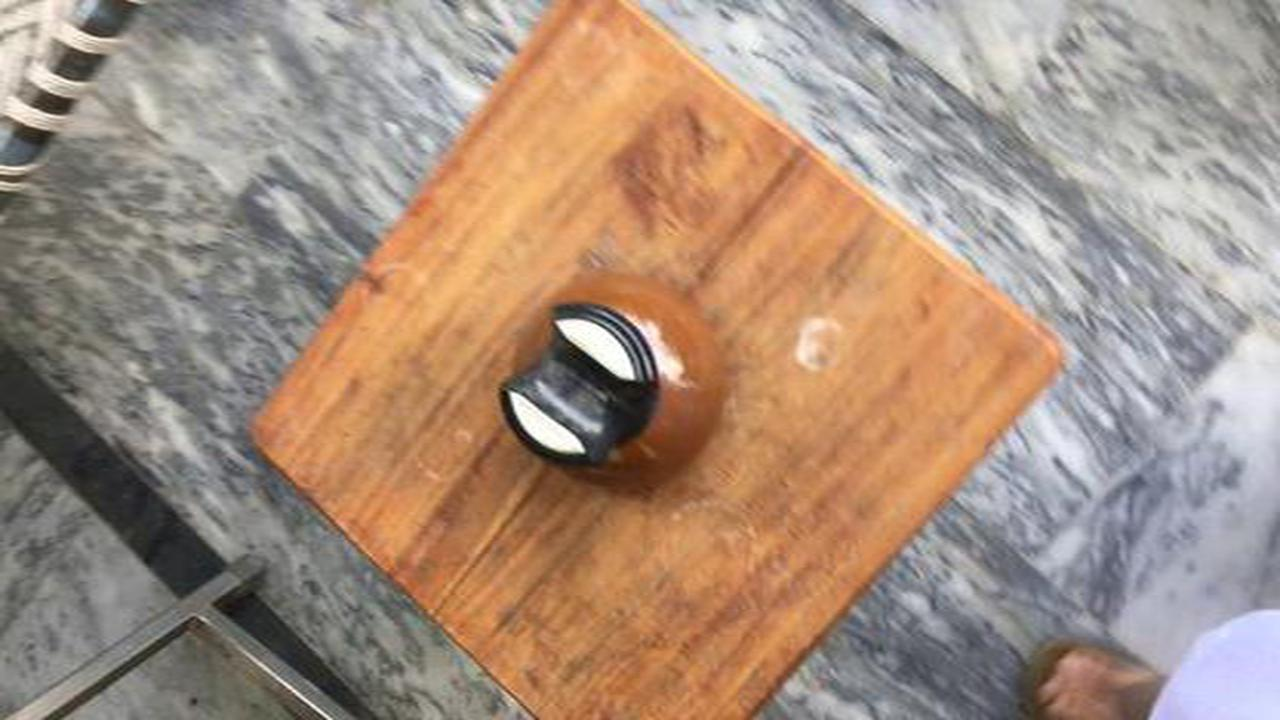insulator_pin: (474, 265, 757, 508)
